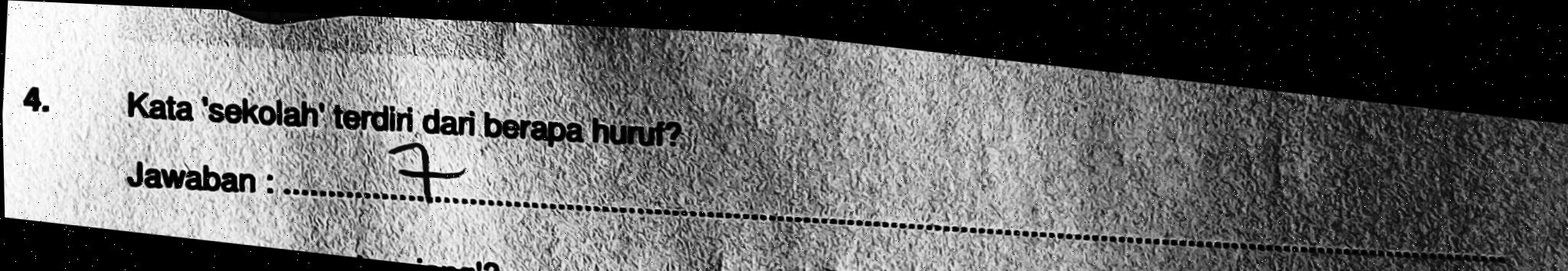jawaban: (377, 136, 486, 210)
